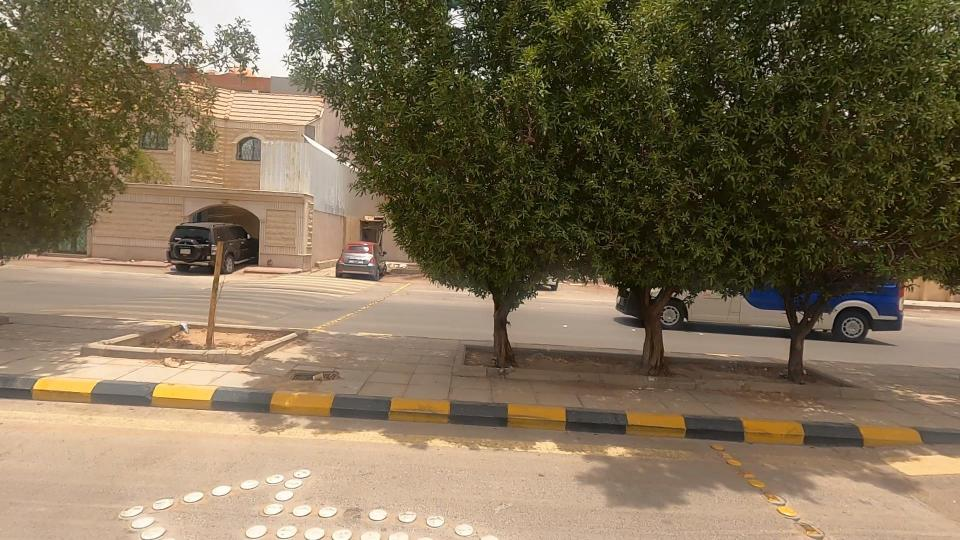CLUTTER_SIDEWALK: (57, 277, 356, 406)
GARBAGE: (152, 298, 198, 347), (147, 339, 191, 383)
